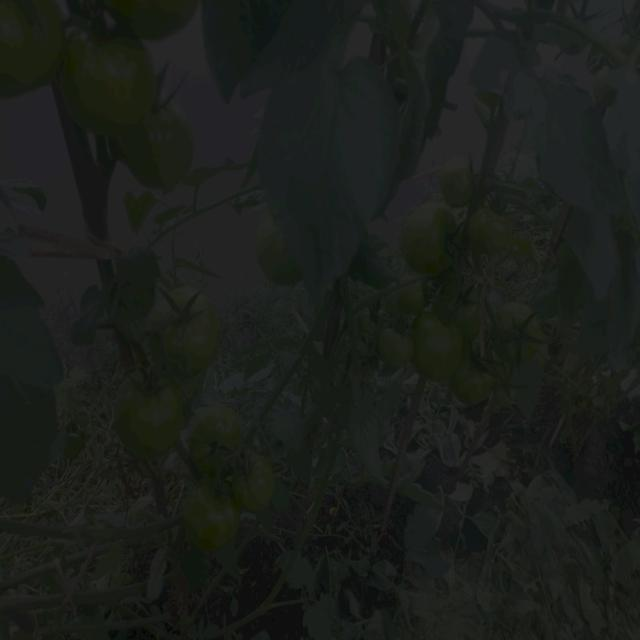tomato: (58, 23, 149, 129), (114, 370, 186, 458), (1, 1, 63, 95), (159, 290, 224, 373), (129, 101, 191, 187), (412, 308, 470, 387), (405, 205, 462, 273), (112, 1, 203, 39), (192, 404, 244, 468), (496, 299, 548, 363), (232, 444, 276, 518), (195, 481, 238, 547), (441, 289, 490, 339), (262, 233, 301, 294), (469, 202, 514, 253), (398, 277, 443, 321), (382, 324, 420, 371), (461, 370, 503, 411), (449, 162, 478, 201)
